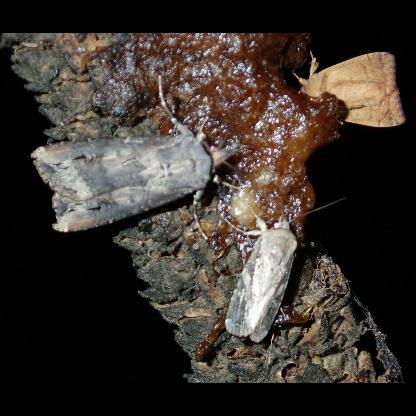Fall Armyworm Moth: (28, 74, 254, 242), (222, 192, 348, 346), (291, 47, 407, 131)
